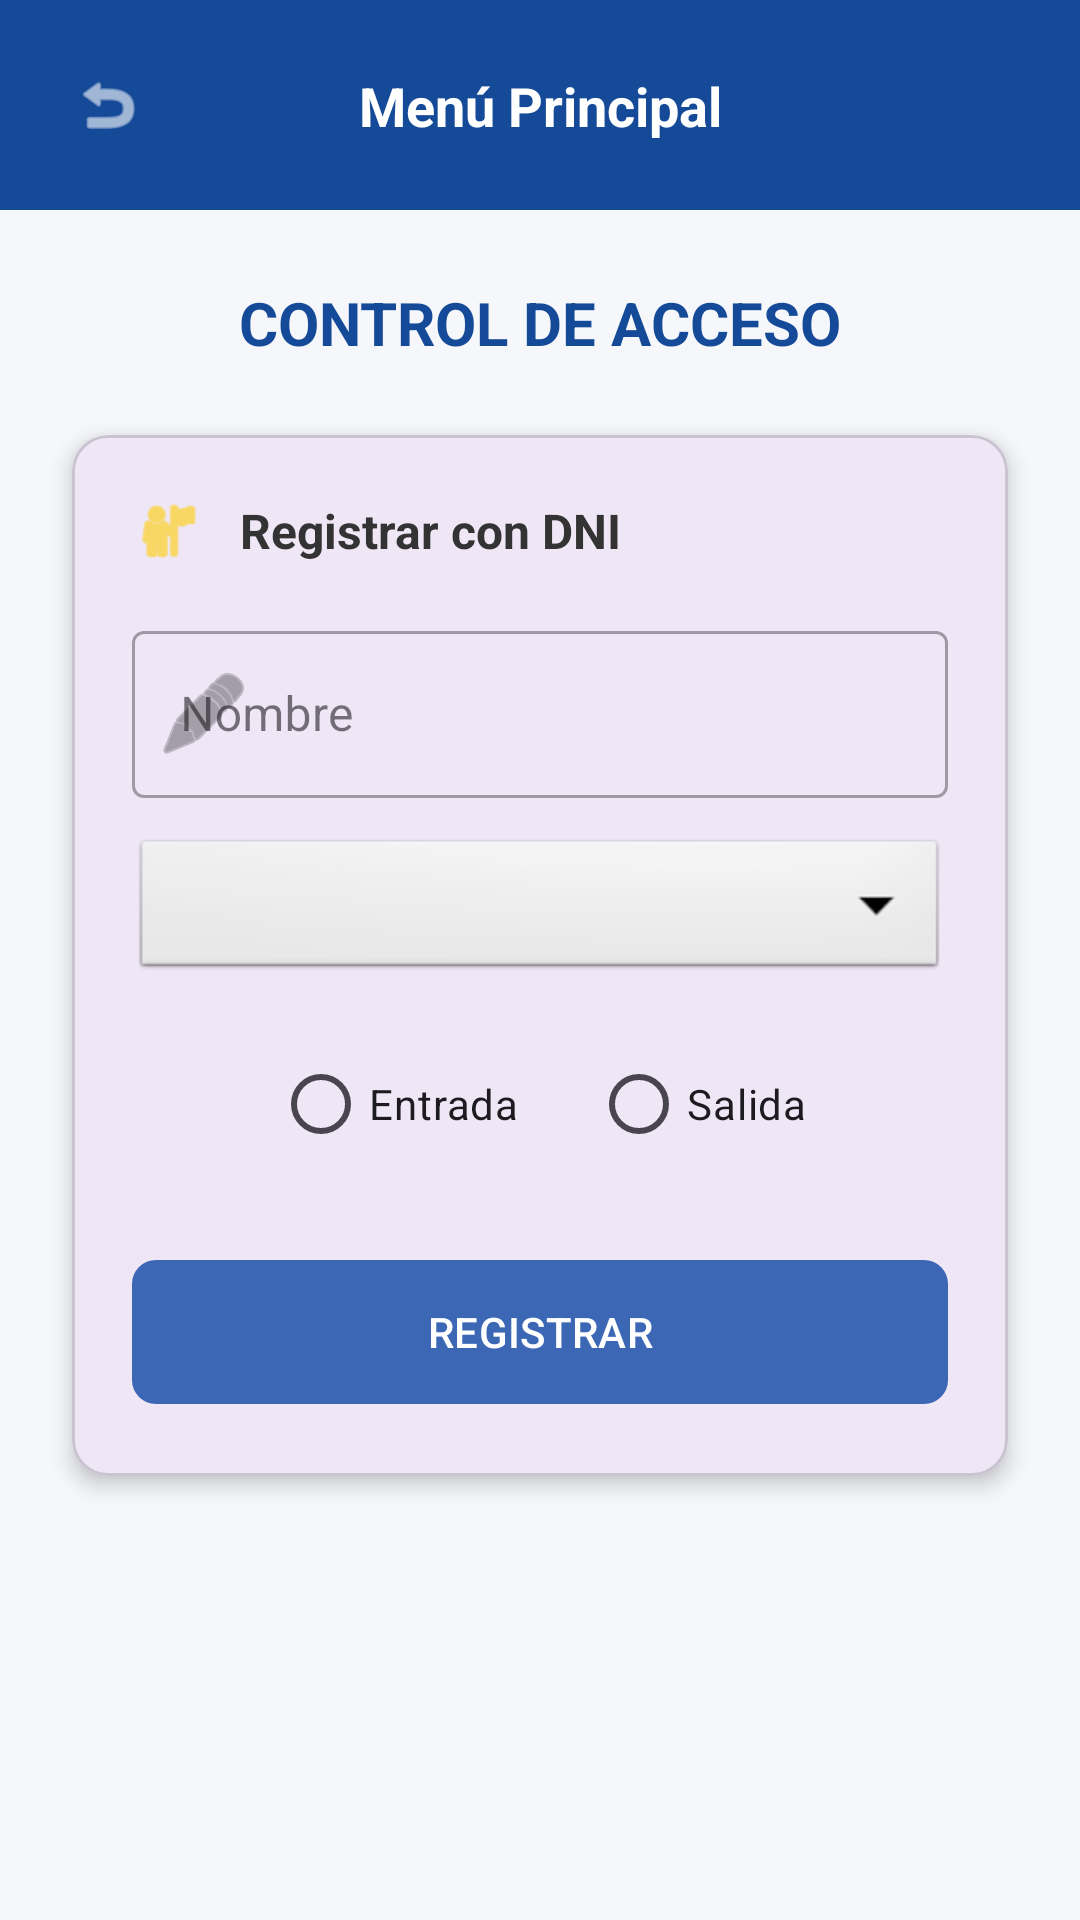

Named icons in this screenshot (1080x1920) and their bounding boxes, (x1, y1, x2, y2):
revert: (83, 82, 135, 129)
